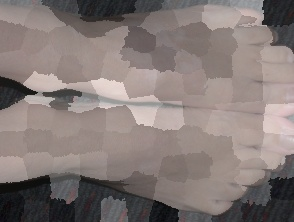vitiligo: (0, 87, 294, 222), (0, 0, 294, 118)
